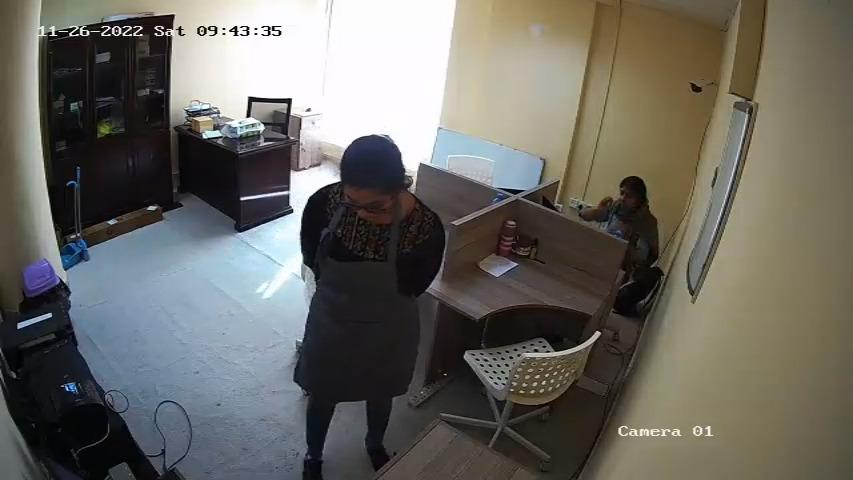apron: (315, 217, 403, 387)
